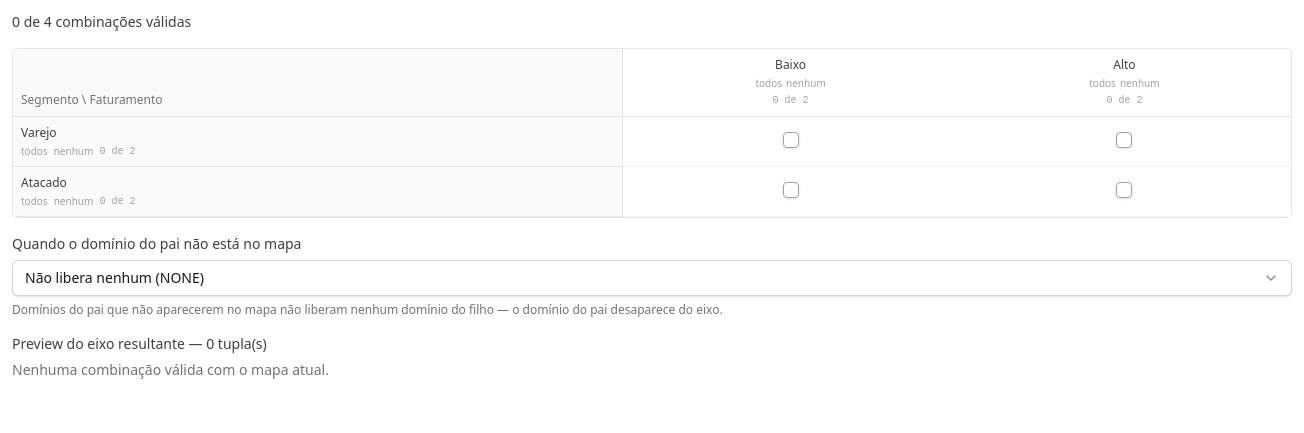
Test case: CompatibilityMapEditor — marcar/desmarcar atualiza contador e preview na hora › marcar uma caixa atualiza o contador geral, o contador de linha/coluna e o preview
Click the checkbox named "Varejo → Baixo" at point(791, 140), box [783,132,799,148]
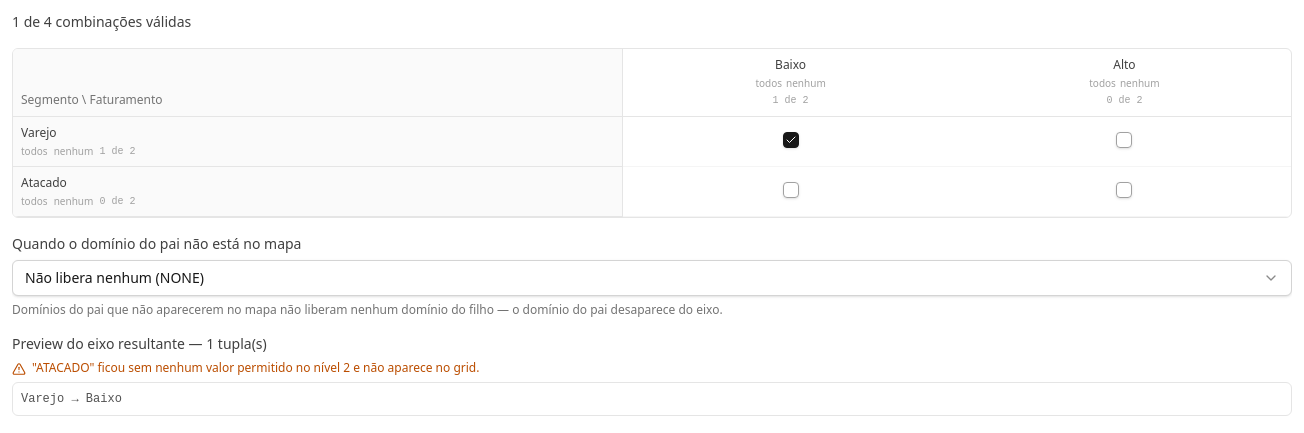
Check: the text "1 de 4 combinações válidas" is shown, box [12,12,191,32]
Check: the text "Preview do eixo resultante — 1 tupla(s)" is shown, box [12,334,267,353]
Check: the list item "Varejo → Baixo" is shown, box [21,392,122,406]
